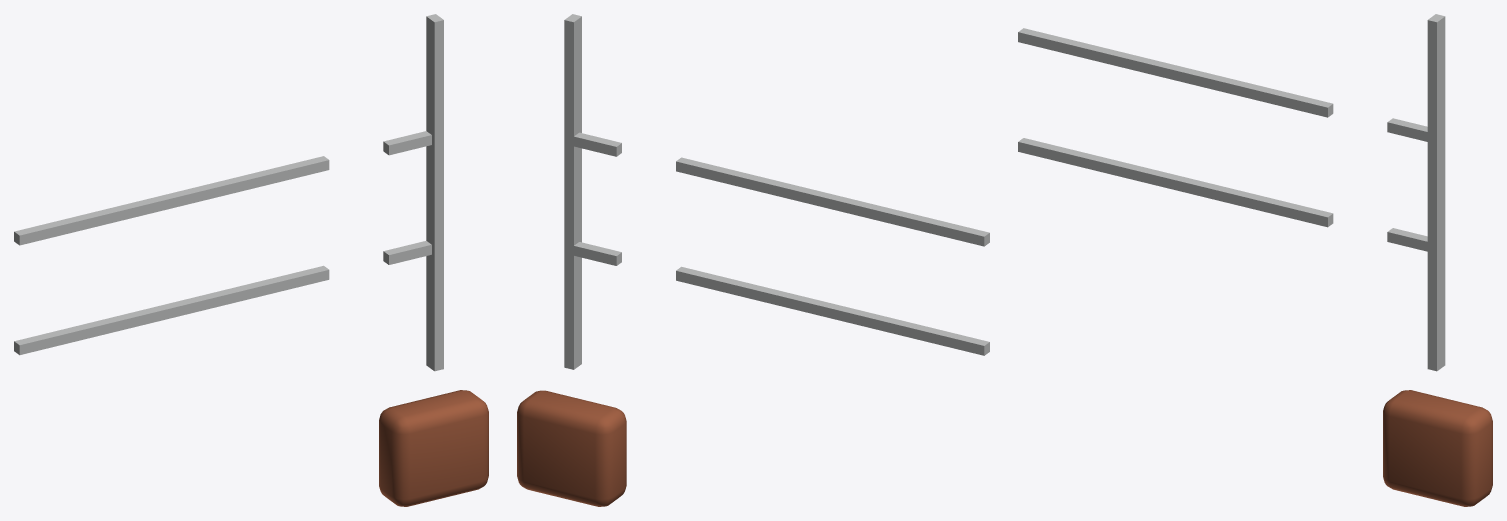
Rendered from toaster_carriage_lever.glb.
The picture shows the model from 3 angles, left to right: view 1: azimuth 30°, elevation 25°; view 2: azimuth 150°, elevation 25°; view 3: azimuth 330°, elevation 25°; orthographic projection.
Parts seen in each view (by area): view 1: toaster_carriage_lever_x; view 2: toaster_carriage_lever_x; view 3: toaster_carriage_lever_x.
Boxes of the visible parts, x1,y1,x2,y2 form: toaster_carriage_lever_x: (14,14,488,506); toaster_carriage_lever_x: (517,14,989,506); toaster_carriage_lever_x: (1018,14,1492,506).
Bounding box in the file's own units: 0.195 × 0.191 × 0.018.
